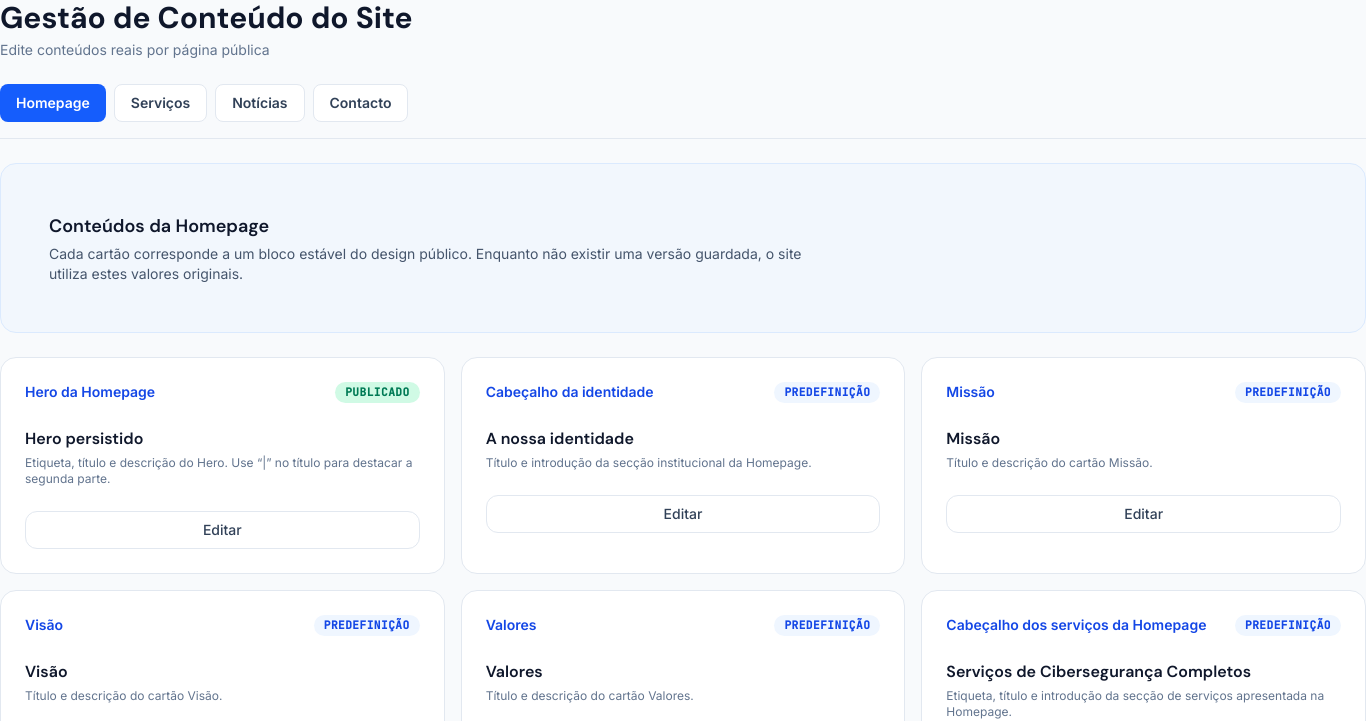
Test case: AdminSiteContent › expõe quatro separadores e apenas os blocos estáveis do design
This screenshot has width=1366, height=721.
Expected: the button "Homepage" is shown, [0,84,106,122]
Expected: the button "Notícias" is shown, [215,84,304,122]
Click the button "Serviços". click: (160, 103)
box: [114,84,207,122]
(page scrolled)
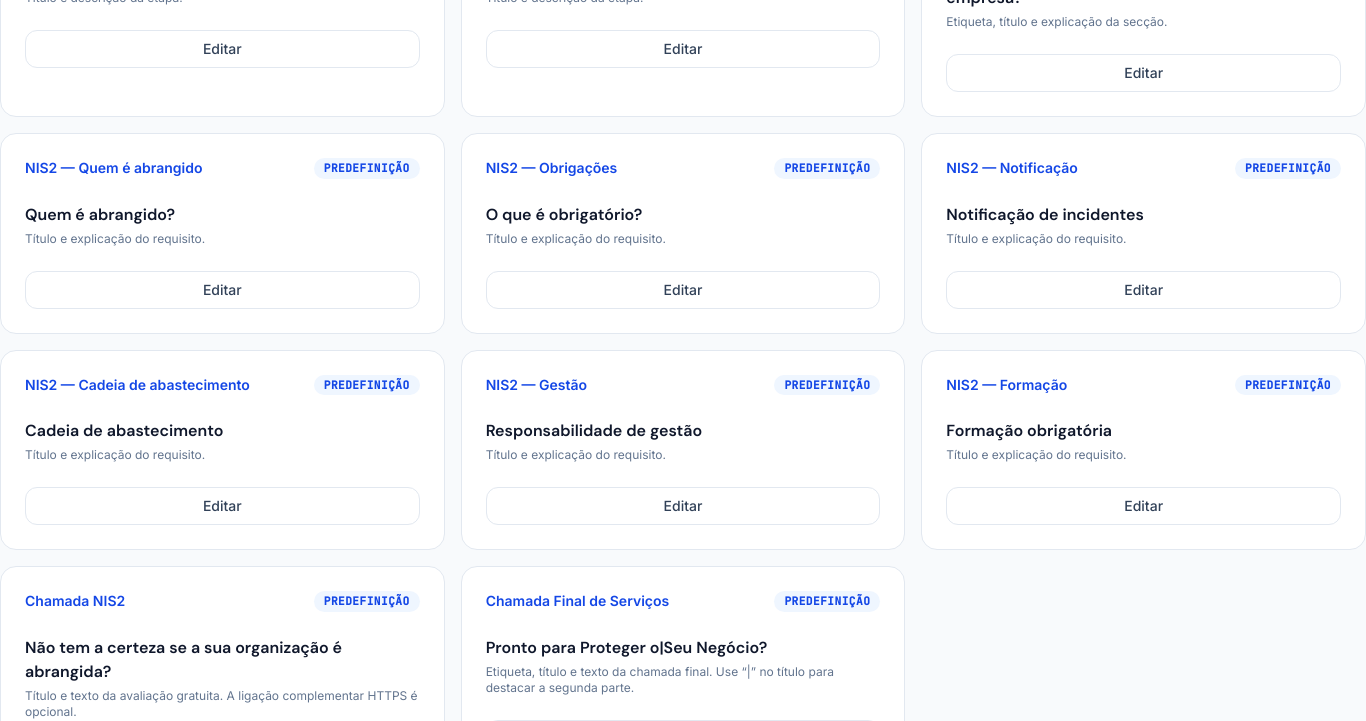
Expected: the text "NIS2 — Formação" is shown, [946,375,1067,395]
